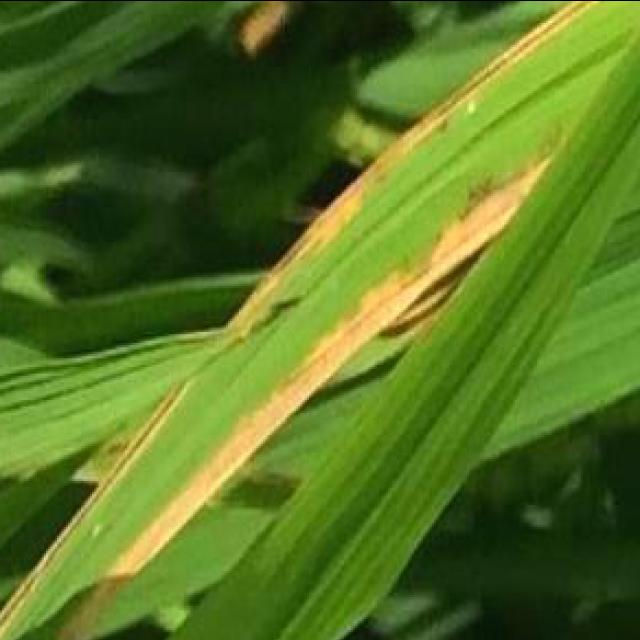Bacterial_Leaf_Blight: (272, 162, 518, 324)
